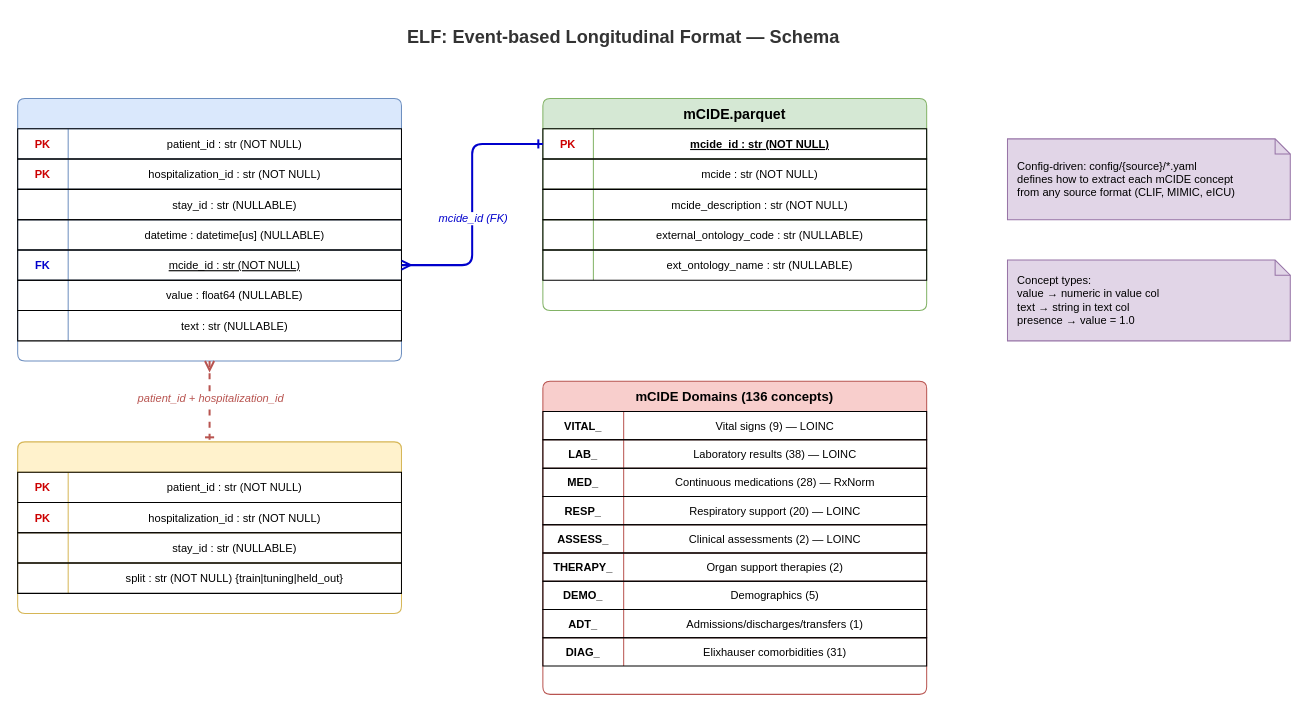
Some shapes in this 1308 by 712 pixel diagram are drawn without their labels. The box of each missing label's shape, as (x1, y1, x2, y2) in pixels:
data.parquet: (17, 97, 401, 361)
split.parquet: (17, 441, 401, 614)
